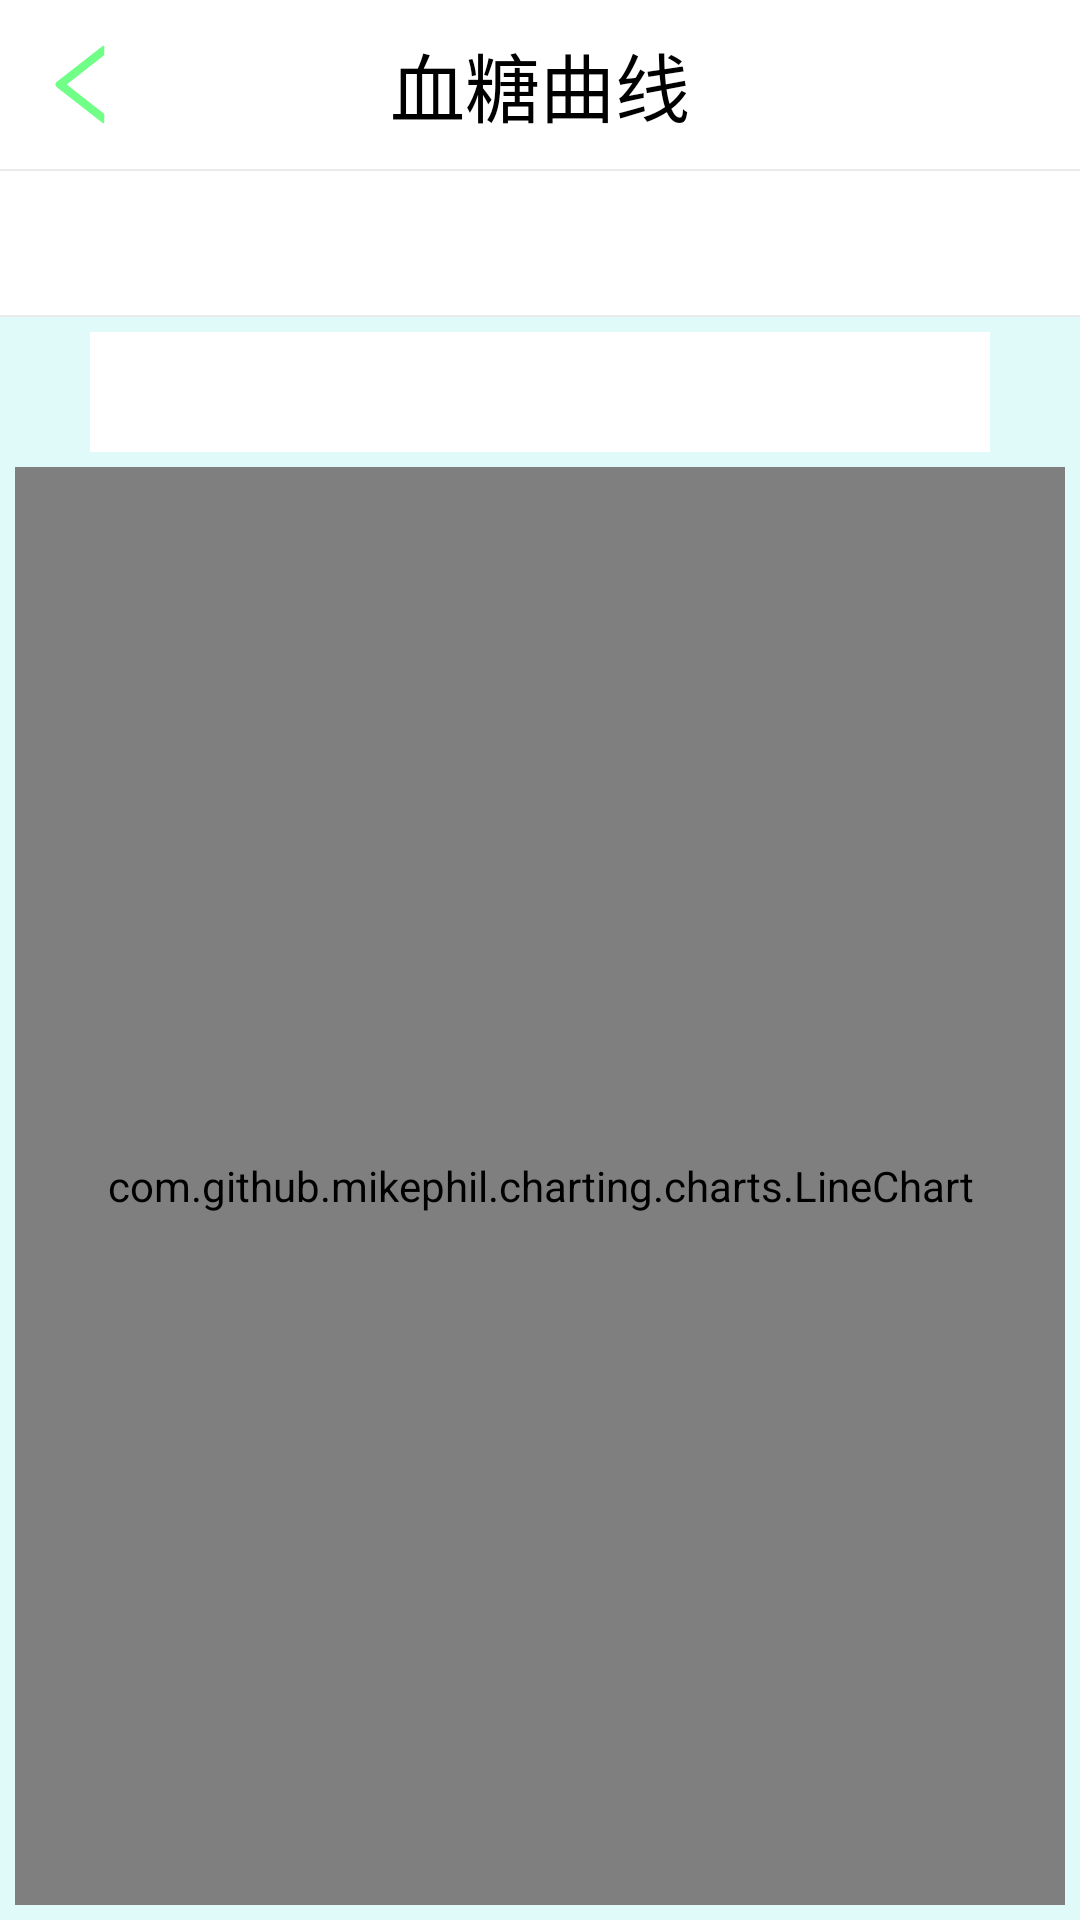

Named icons in this screenshot (1080px x 1920px) and their centers, point (x, y):
back left: point (80, 84)
